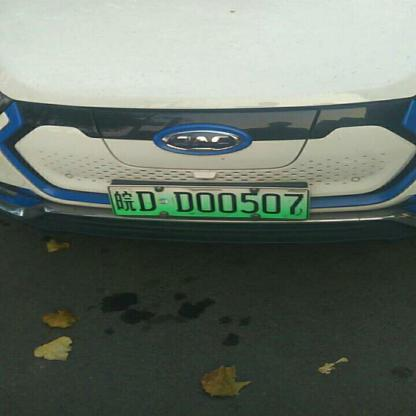lp: (107, 186, 308, 218)
